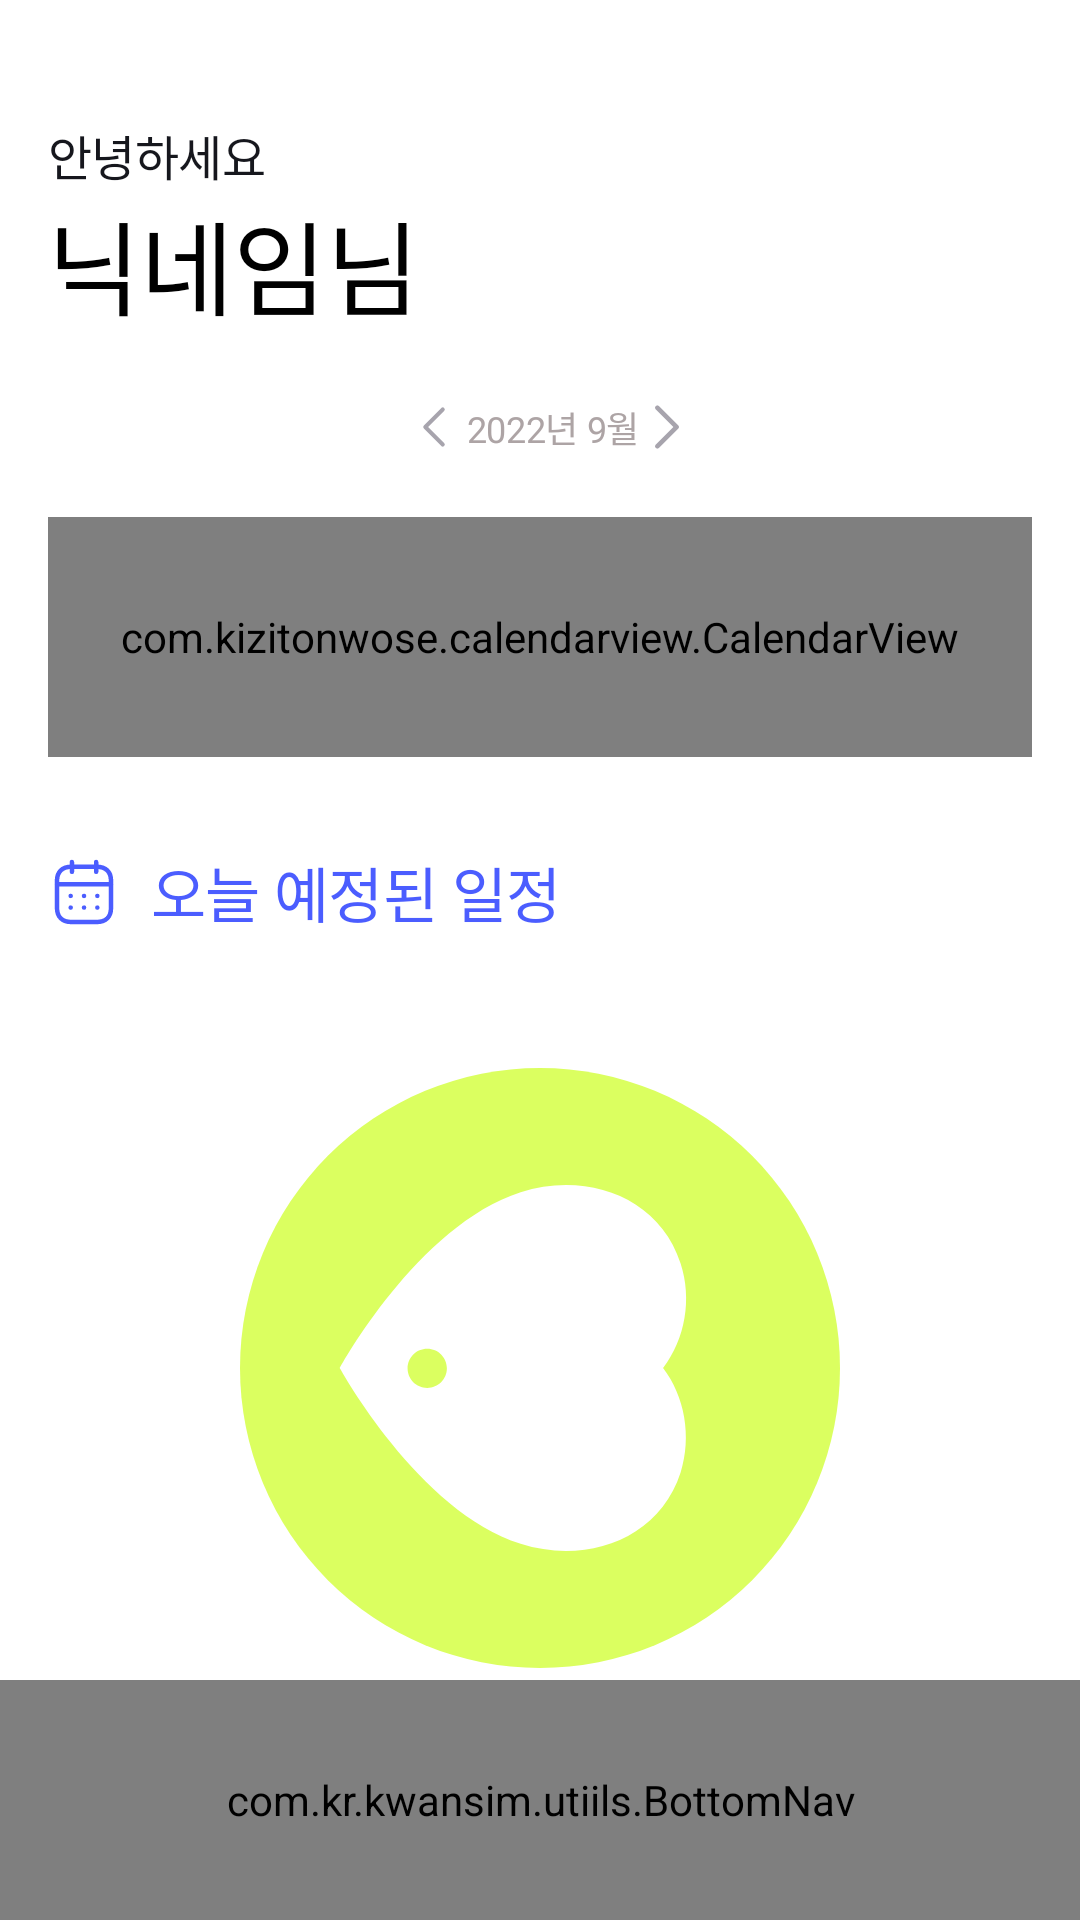

Where to tap for icons on this 1080×1920 app screen, as (x=x, y=y):
left: (x=434, y=427)
right: (x=667, y=427)
